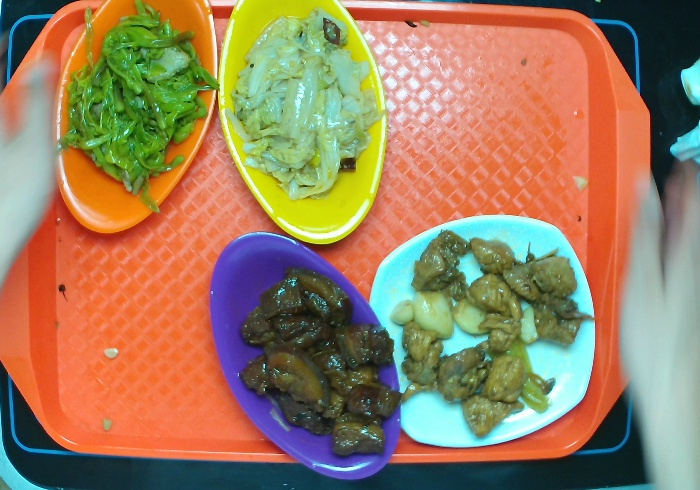RJxy-Fen_Hong_Tuo_Yuan: (206, 224, 409, 483)
RJxy-Huang_Se_Tuo_Yuan: (211, 1, 391, 247)
RJxy-Ju_Huang_Tuo_Yuan: (49, 1, 222, 241)
RJxy-Si_Fang_Die: (363, 213, 600, 455)
